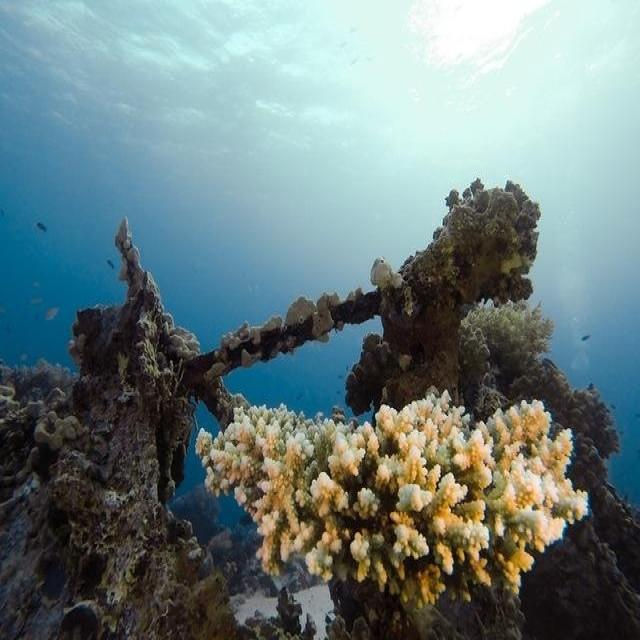reefs: (194, 391, 593, 608), (457, 303, 639, 637), (345, 179, 541, 414)
wrecks-ruins: (0, 221, 381, 639)
